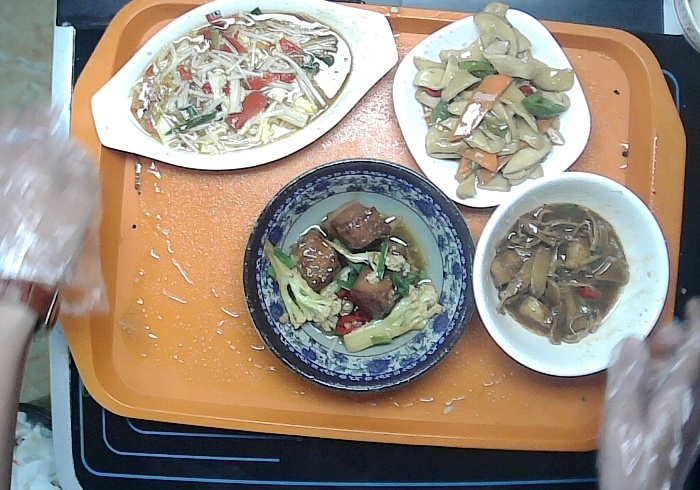ZNLD-Qing_Hua_Wan: (240, 157, 478, 392)
ZNLD-Si_Fang_Wan: (391, 7, 593, 210)
ZNLD-Tang_Wan: (470, 169, 671, 379)
ZNLD-Yu_Pan: (89, 1, 399, 171)
